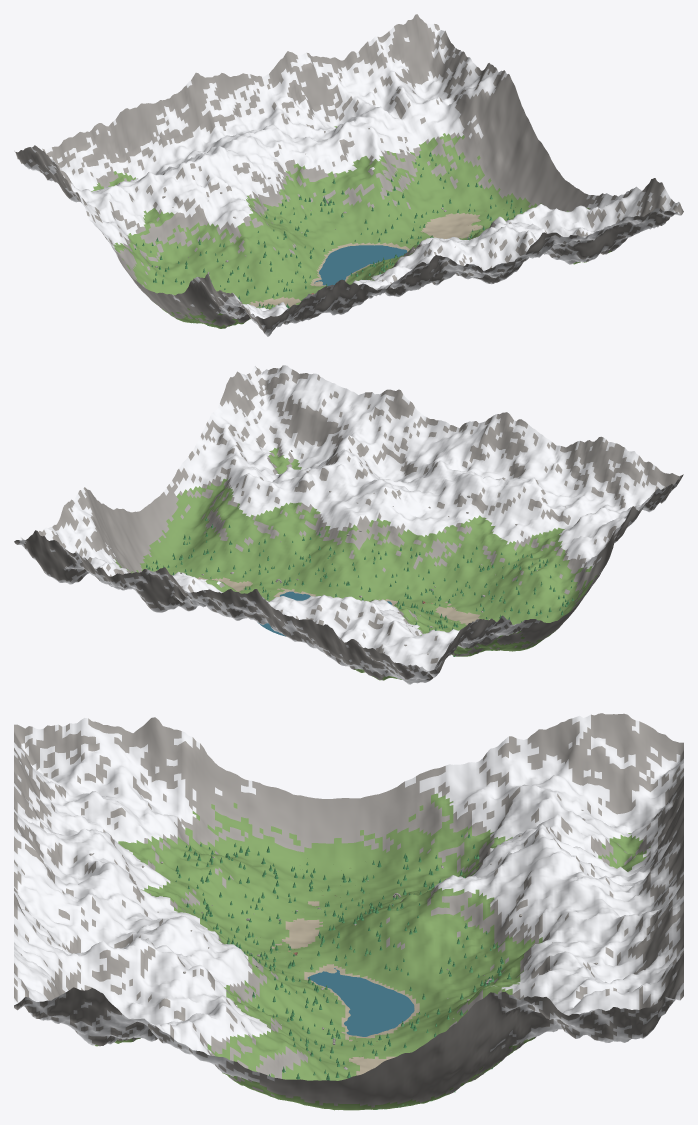
The model's file is mountains.glb.
3 renders of one model, top to bottom at view 1: azimuth 30°, elevation 25°; view 2: azimuth 150°, elevation 25°; view 3: azimuth 270°, elevation 25°, orthographic. The views are drawn at different scales.
Visible parts, largest first — view 1: map; view 2: map; view 3: map.
Boxes of the visible parts, <box> form: map: <box>14,14,683,336</box>; map: <box>14,365,683,684</box>; map: <box>14,713,683,1110</box>.
Bounding box in the file's own units: 1800 × 493 × 1800.
